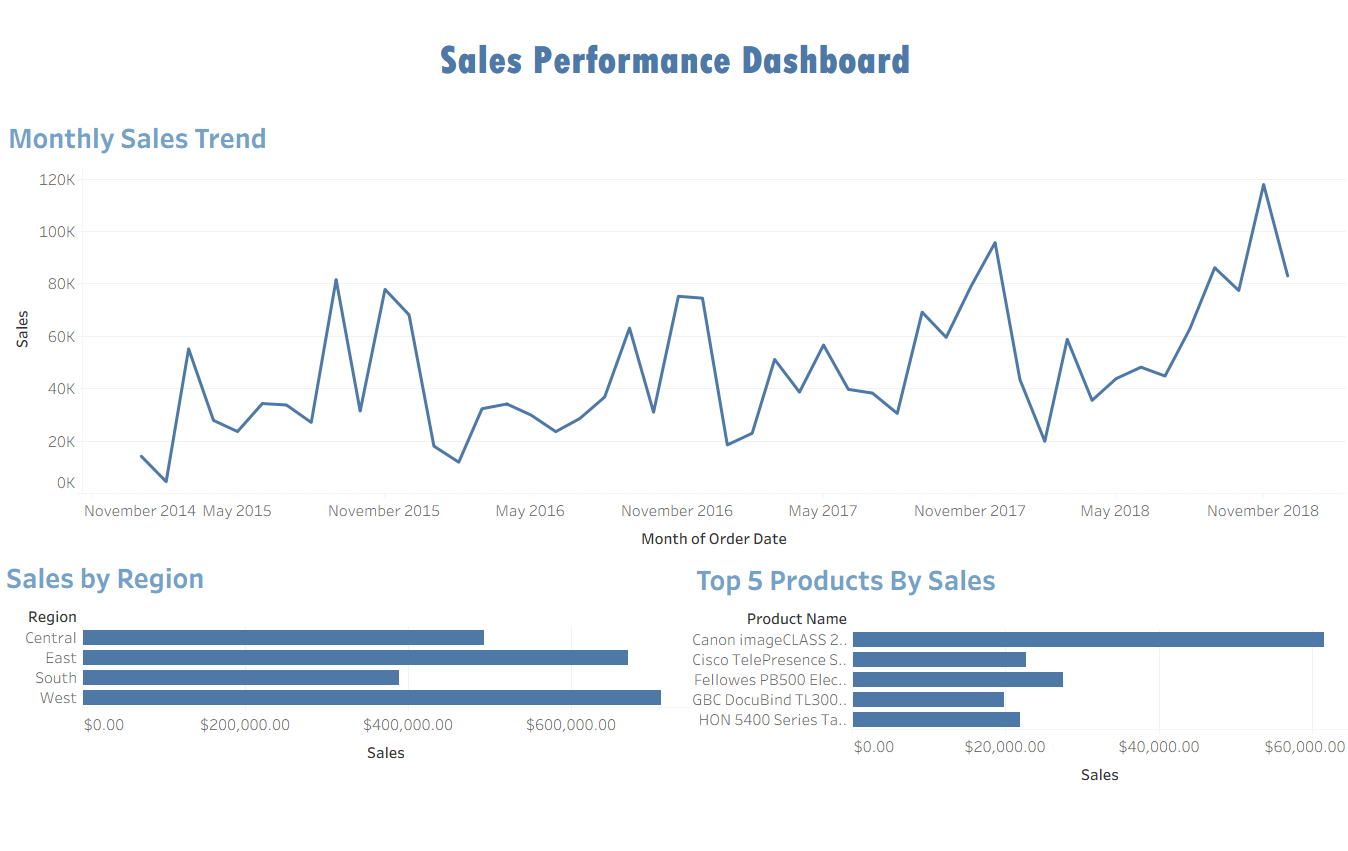

This screenshot's page, from the dashboard's own definition file:
{"tool":"tableau","page":{"name":"Dashboard 1","canvas":[1000,1000],"units":"permille","ordinal":0},"visuals":[{"type":"title","box":[5.9,9.4,988.1,123.2]},{"type":"worksheet","title":"Sheet 2","mark":"Automatic","rows":["Sales"],"cols":["Order Date"],"box":[3,135,994.1,517.6]},{"type":"worksheet","title":"Sheet 1","mark":"Automatic","rows":["Region"],"cols":["Sales"],"box":[1.5,651.4,509.6,346.2]},{"type":"worksheet","title":"Sheet 3","mark":"Automatic","rows":["Product Name"],"cols":["Sales"],"box":[512.6,653.8,485.9,346.2]}]}

Visuals, with their boxes on the dashboard's canvas, which has no fixed pixel size, in thousandths of its width and height (x1, y1, x2, y2). These are canvas units, not pixel positions in the 1348x851 screenshot, which may show the page scaled, cropped or inside an application window:
title: detection(6, 9, 994, 133)
"Sheet 2" worksheet: detection(3, 135, 997, 653)
"Sheet 1" worksheet: detection(2, 651, 511, 998)
"Sheet 3" worksheet: detection(513, 654, 998, 1000)
